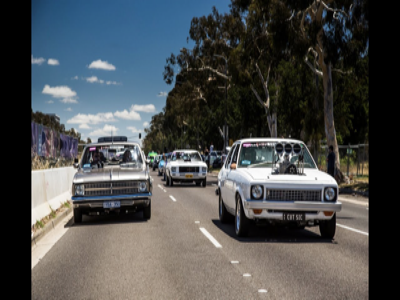licence: (283, 212, 306, 224), (103, 200, 122, 211)
